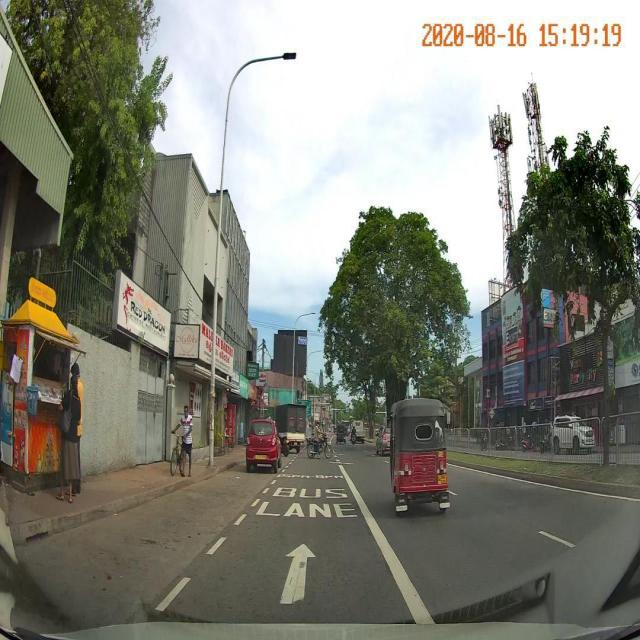BUS LANE: (253, 485, 359, 520)
Liniya 1: (338, 463, 441, 628), (465, 466, 640, 505), (152, 573, 197, 614), (536, 529, 579, 550), (201, 535, 228, 558), (232, 509, 250, 530), (249, 495, 261, 508)
Strelka vpered: (277, 541, 318, 606)
